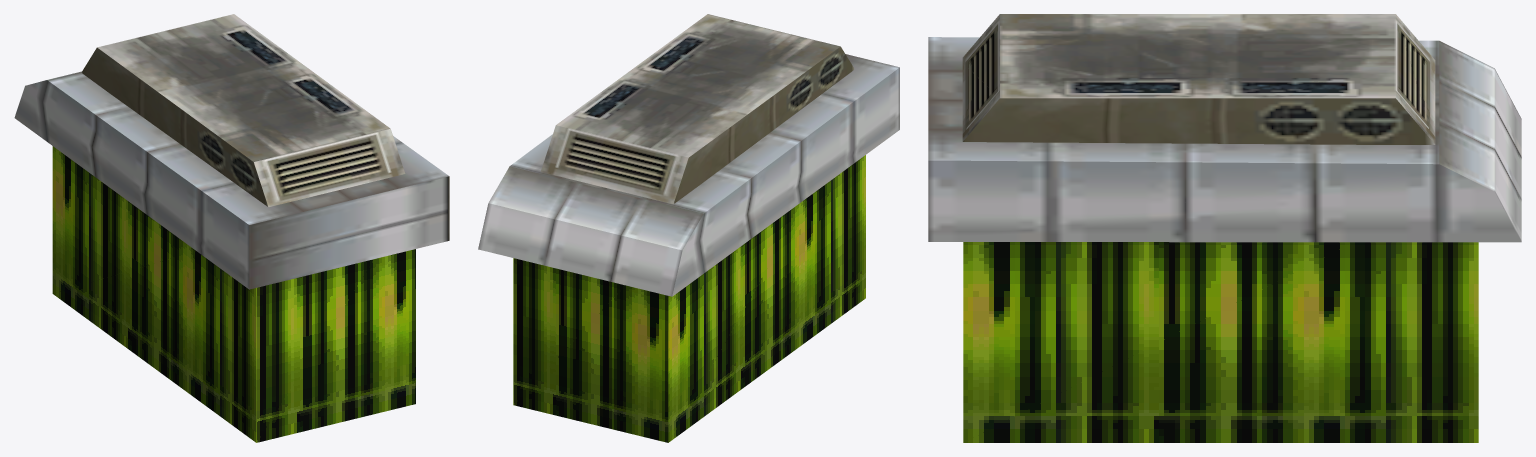
The model's file is USA_PowerPlant_Rods.obj.
3 renders of one model, left to right at view 1: azimuth 30°, elevation 25°; view 2: azimuth 150°, elevation 25°; view 3: azimuth 270°, elevation 25°, orthographic. The views are drawn at different scales.
Parts seen in each view (by area): view 1: LINE01, POWER_GLOW01; view 2: LINE01, POWER_GLOW01; view 3: LINE01, POWER_GLOW01.
Boxes of the visible parts, x1,y1,x2,y2 form: LINE01: (14, 14, 449, 289); POWER_GLOW01: (52, 146, 415, 442); LINE01: (478, 14, 899, 296); POWER_GLOW01: (513, 155, 865, 442); LINE01: (928, 14, 1521, 242); POWER_GLOW01: (963, 242, 1478, 442).
Bounding box in the file's own units: 10 × 12.76 × 20.31.
2 materials, 2 textured.
